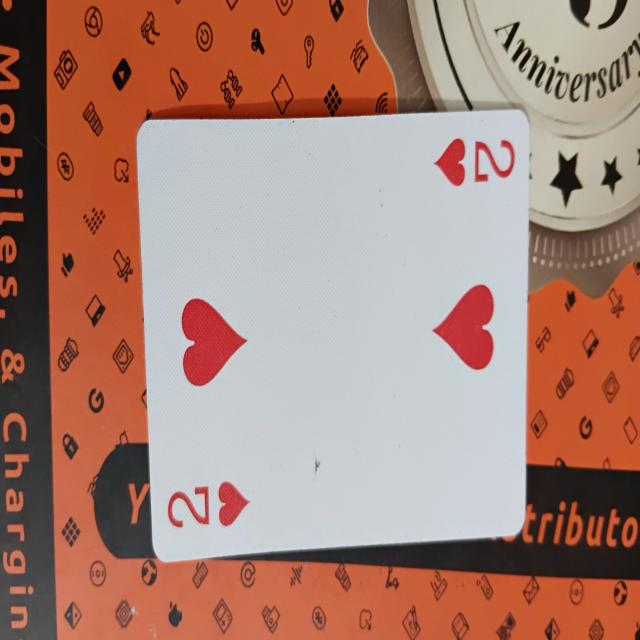2H: (139, 116, 533, 533)
